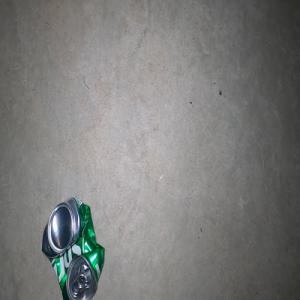SodaCan: (41, 196, 104, 300)
